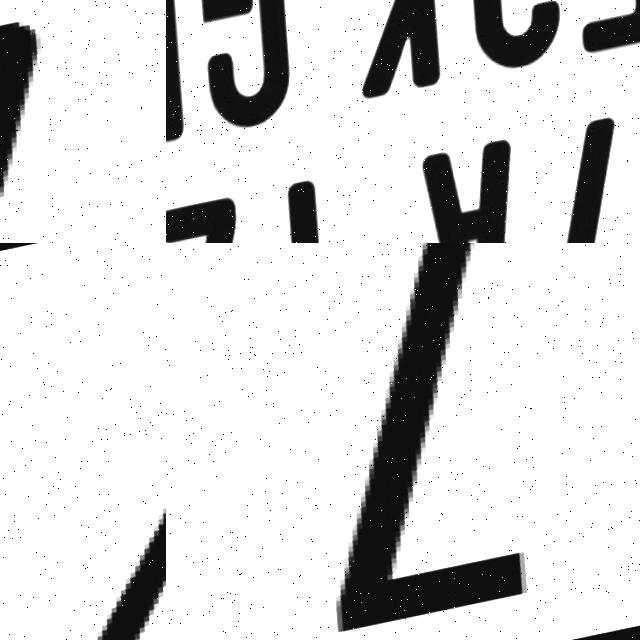3: (440, 0, 588, 81)
7: (518, 112, 640, 243)
9: (0, 0, 166, 243)
A: (406, 133, 558, 243)
G: (172, 0, 321, 138)
K: (325, 0, 467, 100)
N: (166, 0, 212, 153)
Y: (0, 256, 166, 640), (247, 173, 391, 243)
Z: (254, 243, 602, 640)
